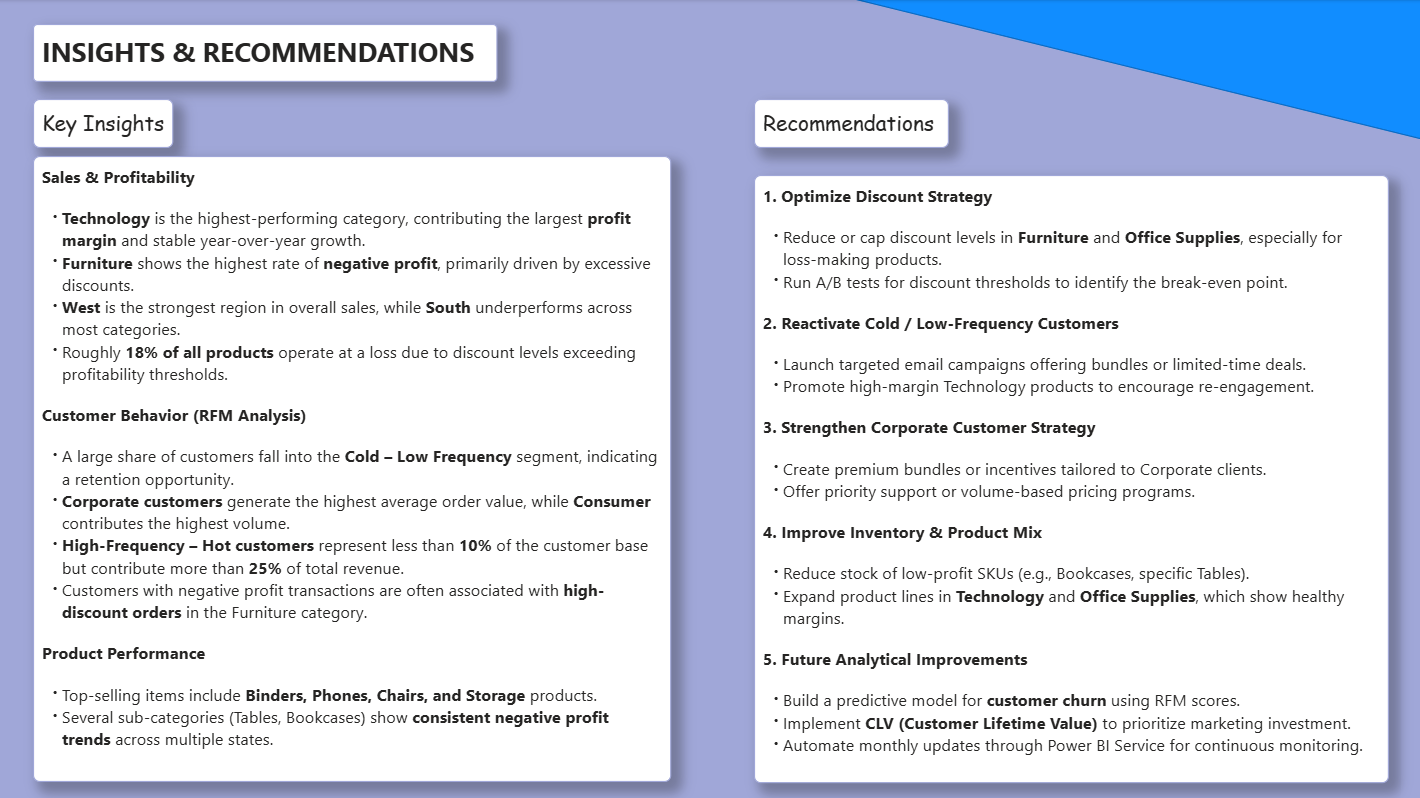

The dashboard page shown, as its layout file describes it:
{"tool":"powerbi","page":{"name":"INSIGHTS & RECOMMENDATIONS","canvas":[1280,720],"ordinal":4},"visuals":[{"type":"textbox","box":[32.1,22.4,417.3,51.6],"z":0},{"type":"textbox","box":[32.1,89.5,126.4,43.8],"z":1000},{"type":"textbox","box":[679.9,89.5,175.1,43.8],"z":2000},{"type":"textbox","box":[32.1,141,572.9,562.2],"z":3000},{"type":"textbox","box":[679.9,157.6,570,545.7],"z":4000},{"type":"shape","box":[767.4,0,512.6,126.4],"z":5000}]}

Visuals, with their boxes in screenshot pixels (x1, y1, x2, y2), scaled from the page's 1280x720 canvas onto the 1420x798 screenshot:
textbox: box=[36, 25, 499, 82]
textbox: box=[36, 99, 176, 148]
textbox: box=[754, 99, 949, 148]
textbox: box=[36, 156, 671, 779]
textbox: box=[754, 175, 1387, 779]
shape: box=[851, 0, 1419, 140]
